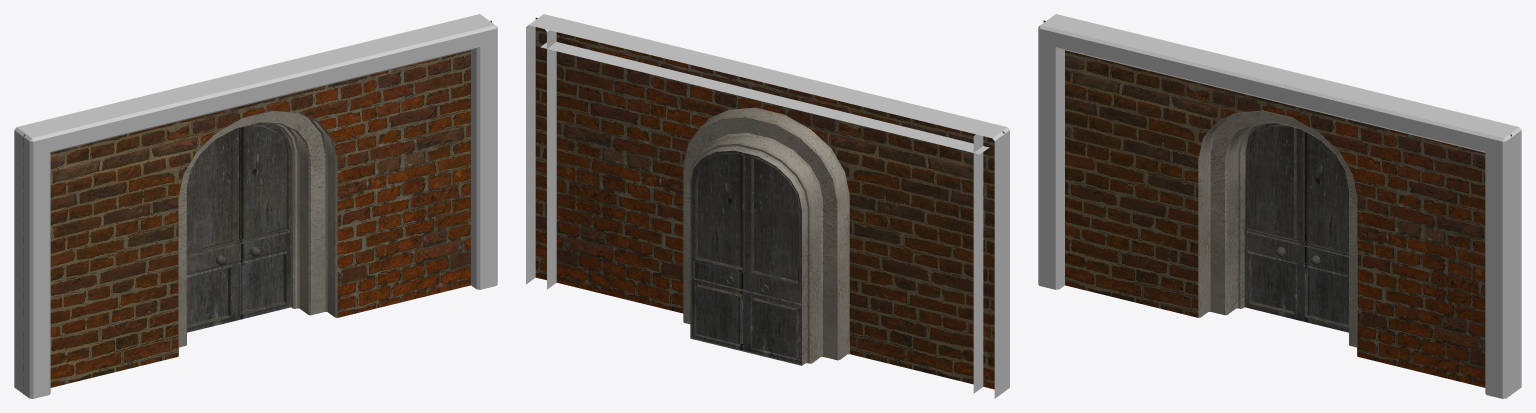
Rendered from Batiment_1_Porte.FBX.
3 views of the same model, side by side, from view 1: azimuth 30°, elevation 25°; view 2: azimuth 150°, elevation 25°; view 3: azimuth 330°, elevation 25° (orthographic).
Visible parts, largest first — view 1: Building; view 2: Building; view 3: Building.
Part boxes in pixels (<box>): Building: <box>14,14,497,398</box>; Building: <box>526,14,1009,398</box>; Building: <box>1038,14,1521,398</box>.
Size of the model in its own units: 315 by 35.97 by 167.
